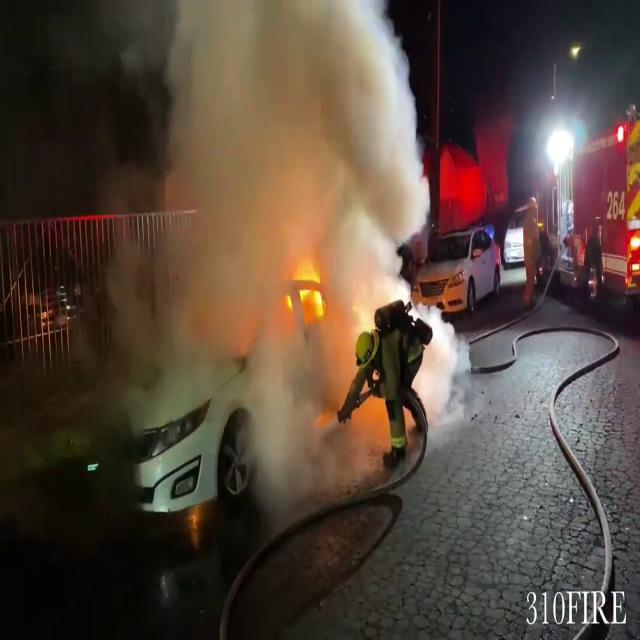Smoke: (86, 0, 429, 501)
